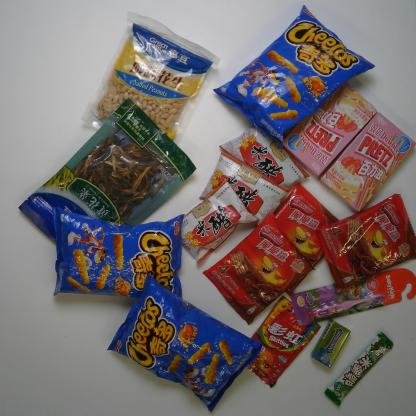Candy: (244, 290, 323, 390)
Chocolate: (321, 325, 398, 410)
Dessert: (196, 209, 317, 329), (315, 108, 416, 214), (315, 192, 416, 294), (281, 78, 381, 178), (270, 176, 344, 271)
Dried Food: (14, 92, 199, 252)
Dried Fruit: (79, 8, 223, 155)
Gum: (309, 313, 353, 370)
Personal Hygiene: (288, 266, 415, 334)
Puffed Food: (210, 1, 376, 150), (102, 268, 268, 414), (48, 203, 190, 309)
Seasoner: (176, 175, 262, 266), (198, 150, 293, 227), (216, 119, 312, 193)
